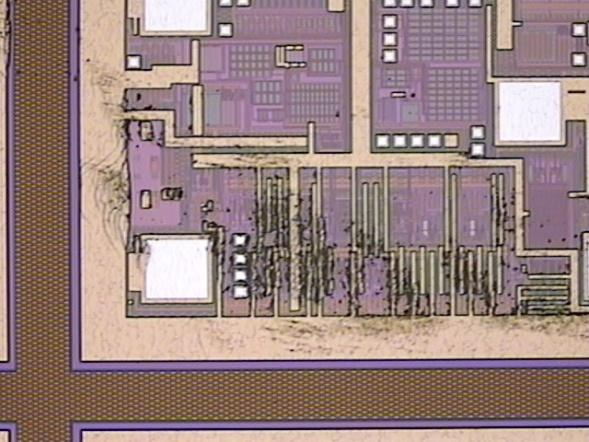SCRATCH: (1, 1, 589, 359)
